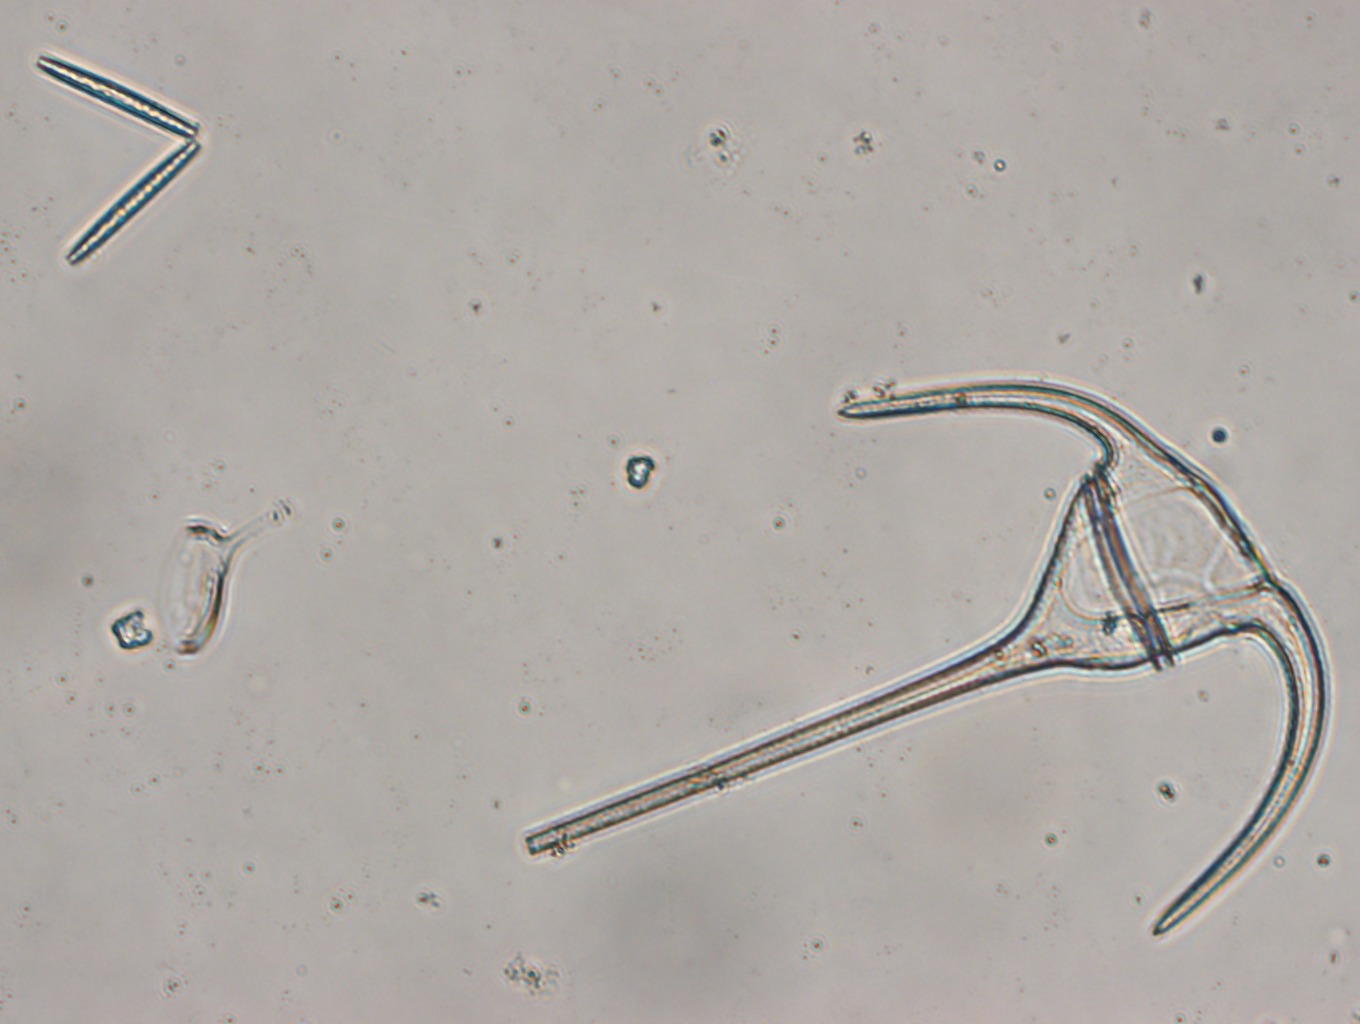ceratium trichoceros: (516, 376, 1331, 942)
thalassionema nitzschioides: (32, 52, 207, 269)
